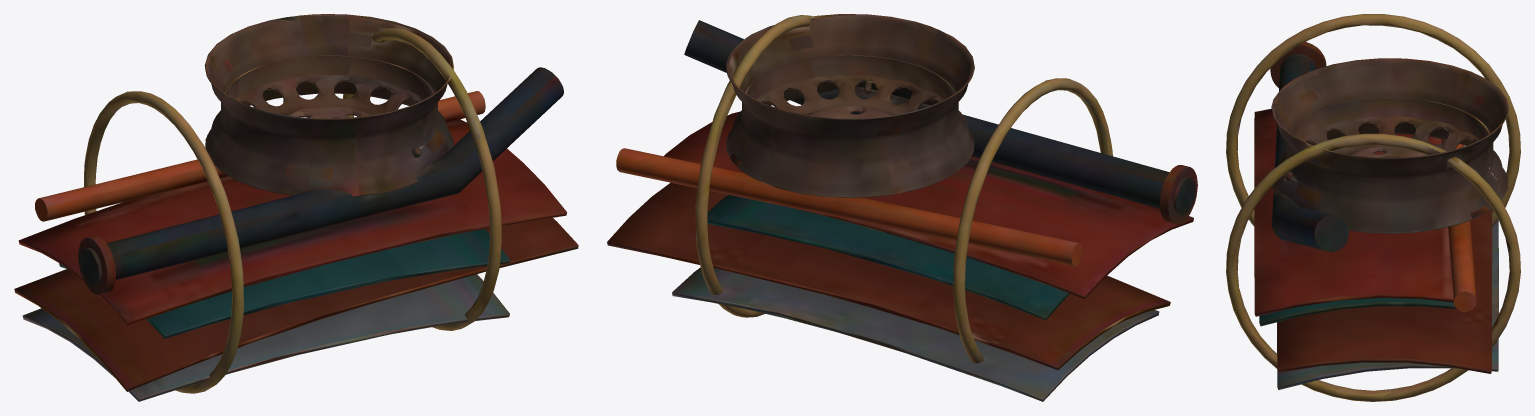
Rendered from salvage_scrap.glb.
The picture shows the model from 3 angles, left to right: view 1: azimuth 30°, elevation 25°; view 2: azimuth 150°, elevation 25°; view 3: azimuth 270°, elevation 25°; orthographic projection. The views are drawn at different scales.
Parts seen in each view (by area): view 1: salvage_scrap; view 2: salvage_scrap; view 3: salvage_scrap.
Boxes of the visible parts, x1,y1,x2,y2 form: salvage_scrap: (14, 14, 578, 401); salvage_scrap: (607, 14, 1197, 401); salvage_scrap: (1226, 14, 1520, 401).
Bounding box in the file's own units: 0.6394 × 0.3536 × 0.3538.
Materials: 1 (1 with a texture image).
